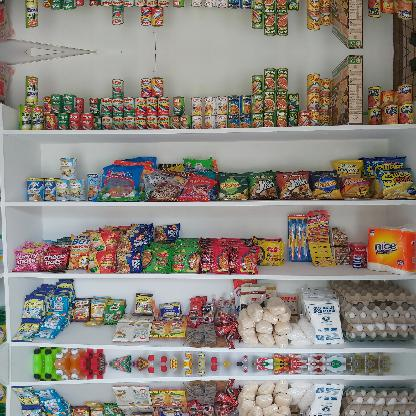Koko-Krunch: (332, 55, 362, 125), (331, 0, 363, 50)
